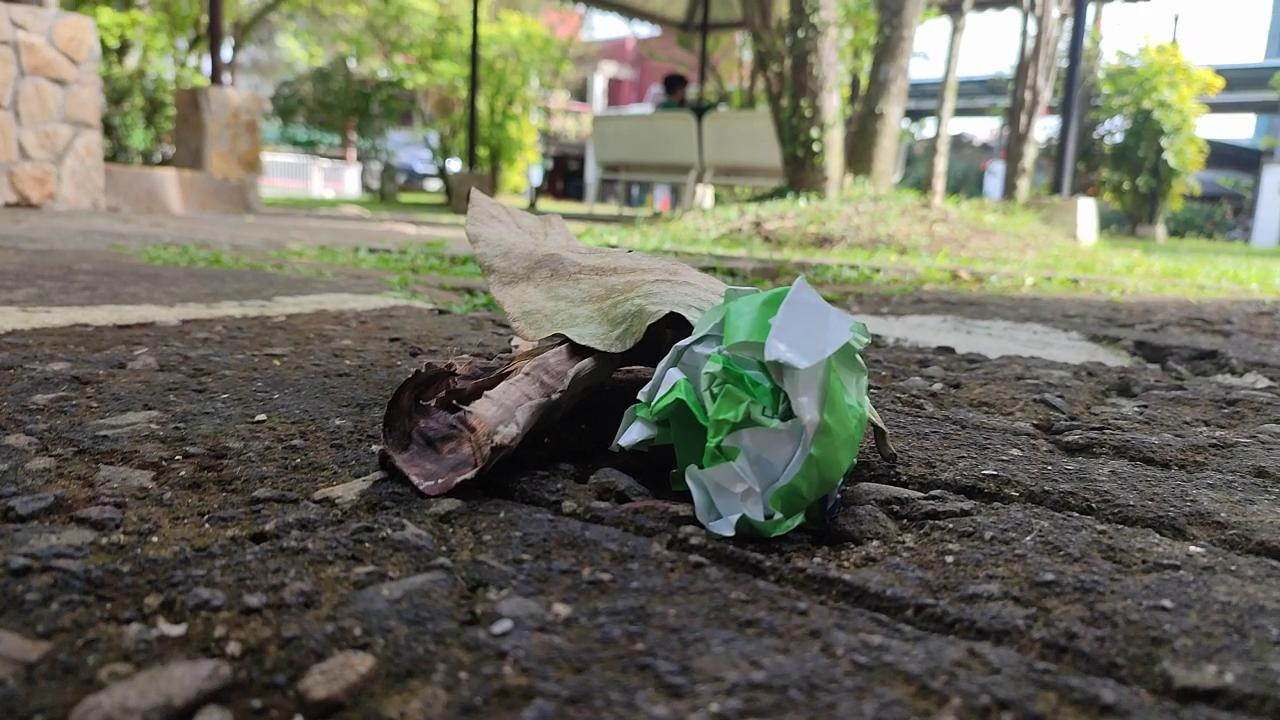Paper: (592, 260, 889, 555)
